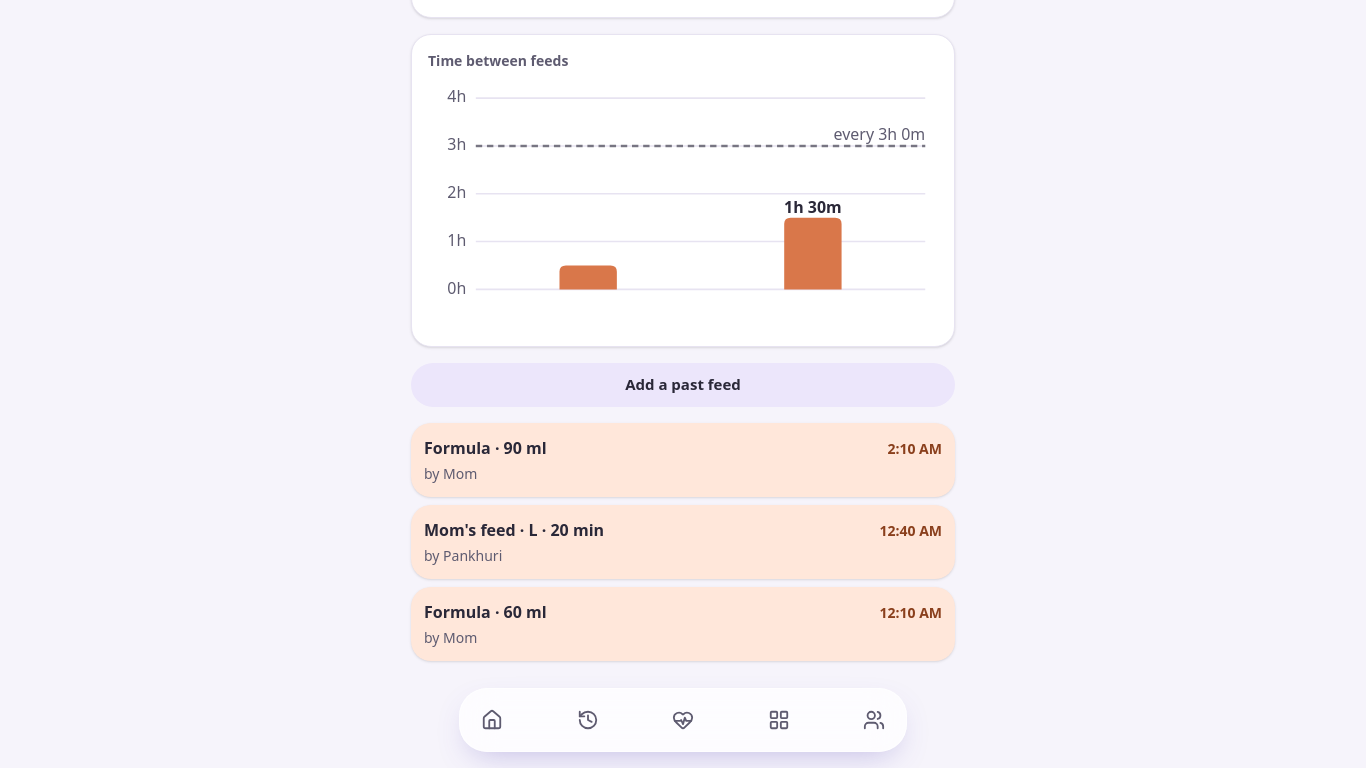
Scenario: Add a past feed opens the feed form
(page scrolled)
Step 1. Click the button "Add a past feed" → {"x": 683, "y": 385}, box x1=411 y1=363 x2=955 y2=407
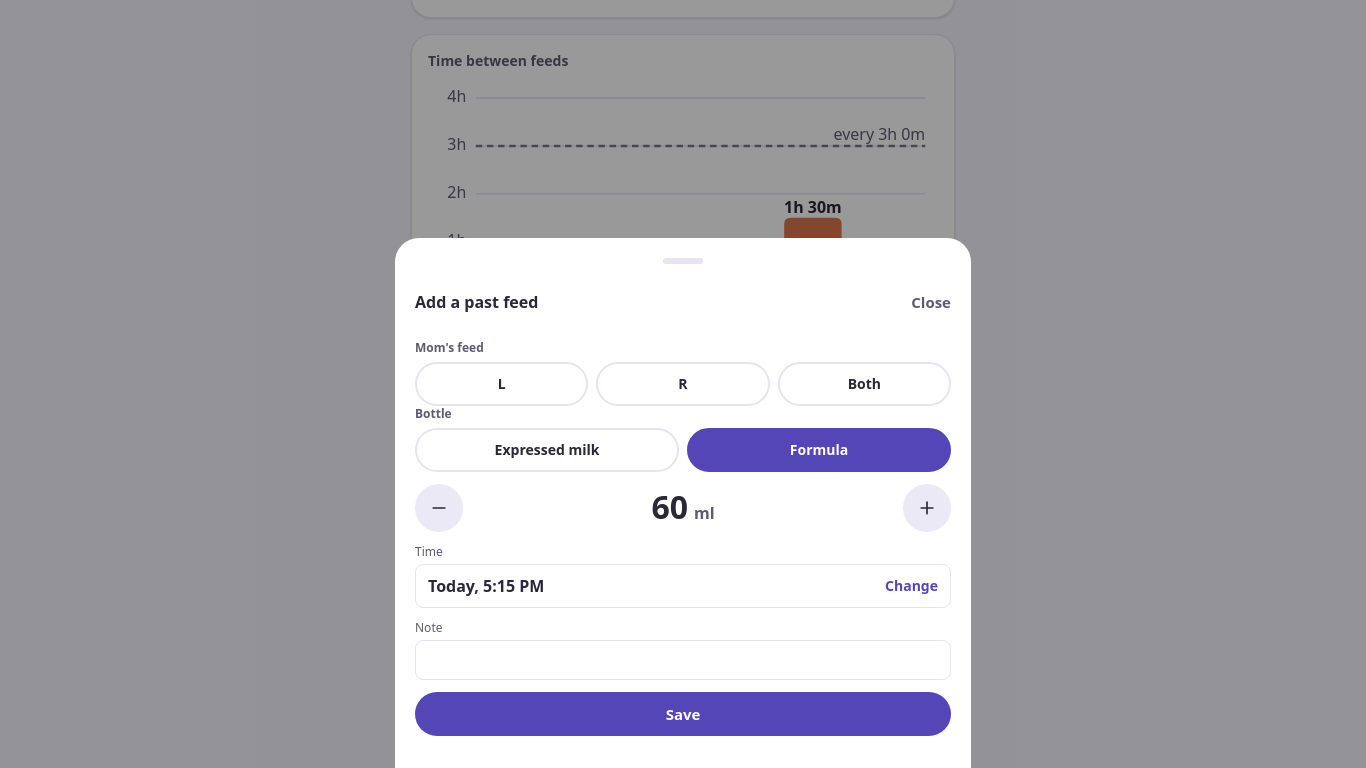
Expected: the dialog "Add a past feed" is shown, x1=395 y1=238 x2=971 y2=767
